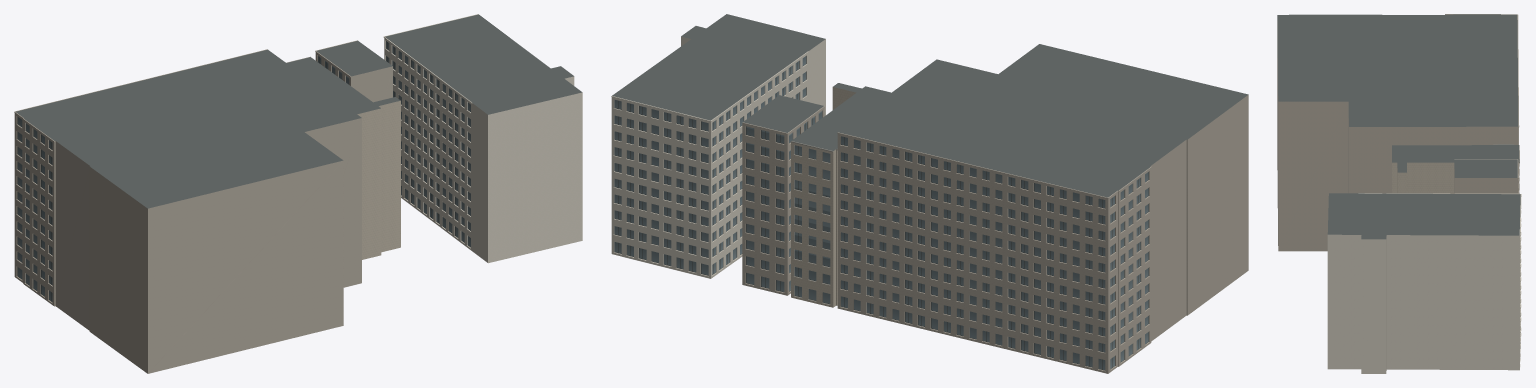
The model's file is near.gltf.
3 renders of one model, left to right at view 1: azimuth 30°, elevation 25°; view 2: azimuth 150°, elevation 25°; view 3: azimuth 270°, elevation 25°, orthographic. The views are drawn at different scales.
Visible parts, largest first — view 1: cell-e004-s001_near_tile-wall, cell-e004-s001_near_roof, cell-e004-s001_near_plaster, cell-e004-s001_near_glass, cell-e004-s001_near_stone, cell-e004-s001_near_frame; view 2: cell-e004-s001_near_tile-wall, cell-e004-s001_near_roof, cell-e004-s001_near_glass, cell-e004-s001_near_plaster, cell-e004-s001_near_frame, cell-e004-s001_near_stone, cell-e004-s001_near_granite; view 3: cell-e004-s001_near_roof, cell-e004-s001_near_plaster, cell-e004-s001_near_tile-wall, cell-e004-s001_near_stone.
Boxes of the visible parts, <box> form: cell-e004-s001_near_tile-wall: <box>14,40,392,373</box>; cell-e004-s001_near_roof: <box>15,14,582,208</box>; cell-e004-s001_near_plaster: <box>383,14,582,263</box>; cell-e004-s001_near_glass: <box>17,41,470,301</box>; cell-e004-s001_near_stone: <box>357,100,400,259</box>; cell-e004-s001_near_frame: <box>17,42,470,302</box>; cell-e004-s001_near_tile-wall: <box>742,95,1248,373</box>; cell-e004-s001_near_roof: <box>612,14,1248,197</box>; cell-e004-s001_near_glass: <box>614,56,1148,370</box>; cell-e004-s001_near_plaster: <box>611,36,825,278</box>; cell-e004-s001_near_frame: <box>614,56,1148,370</box>; cell-e004-s001_near_stone: <box>791,87,856,307</box>; cell-e004-s001_near_granite: <box>790,141,837,304</box>; cell-e004-s001_near_roof: <box>1277,14,1520,239</box>; cell-e004-s001_near_plaster: <box>1327,193,1521,373</box>; cell-e004-s001_near_tile-wall: <box>1277,14,1519,251</box>; cell-e004-s001_near_stone: <box>1392,162,1519,193</box>.
Size of the model in its own units: 107 by 35.73 by 52.71.
7 materials, 5 textured.
